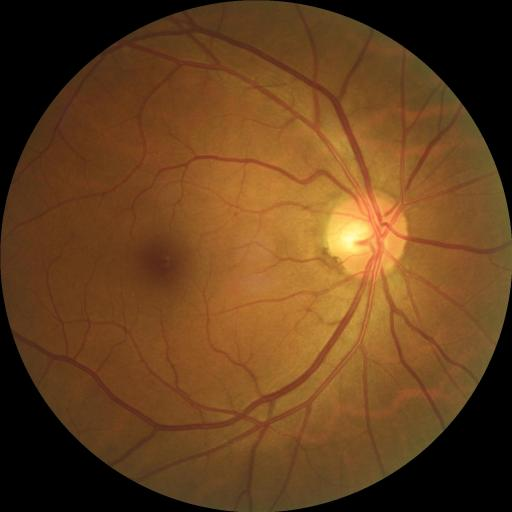Optic Cup: (335, 220, 373, 254)
Optic Disc: (326, 193, 408, 281)
